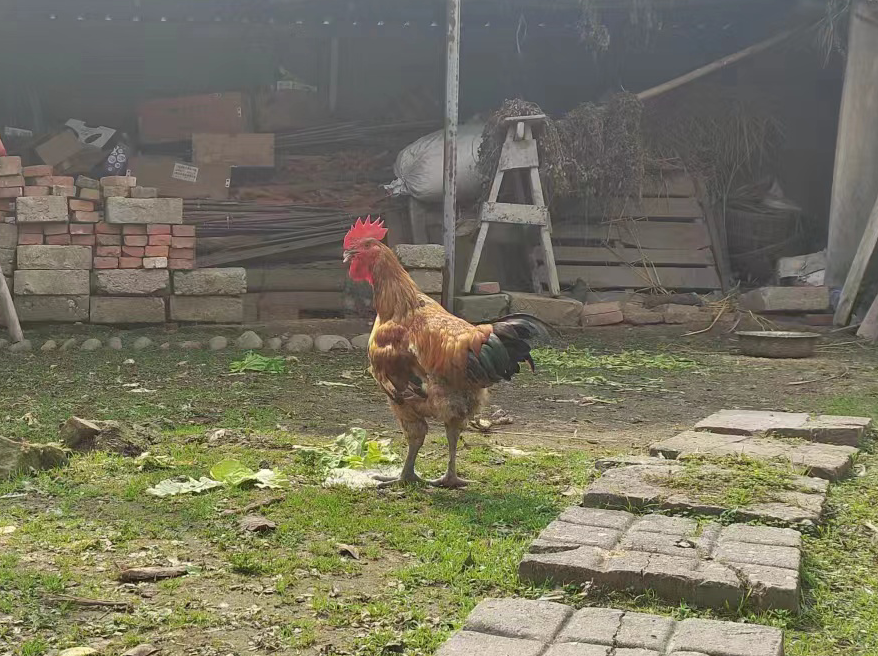chicken: (341, 212, 562, 486)
